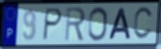9: (22, 8, 39, 42)
A: (108, 8, 132, 41)
C: (132, 6, 155, 42)
O: (87, 6, 108, 42)
P: (41, 7, 64, 42)
R: (64, 6, 87, 42)
